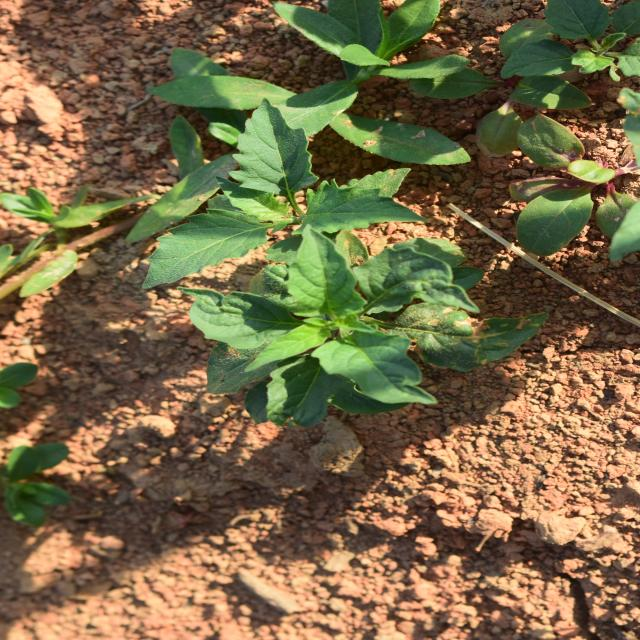Black_nightshade: (232, 229, 420, 496), (372, 146, 508, 416)
